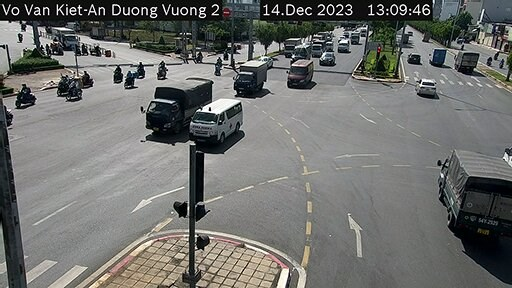car: (188, 98, 251, 137), (415, 77, 436, 97), (318, 50, 334, 69), (410, 53, 422, 63)
motorbike: (12, 87, 36, 107)
truck: (430, 147, 511, 243), (148, 79, 208, 135), (231, 57, 267, 100), (285, 57, 314, 86), (51, 26, 83, 50), (456, 48, 477, 76), (434, 47, 450, 67)
